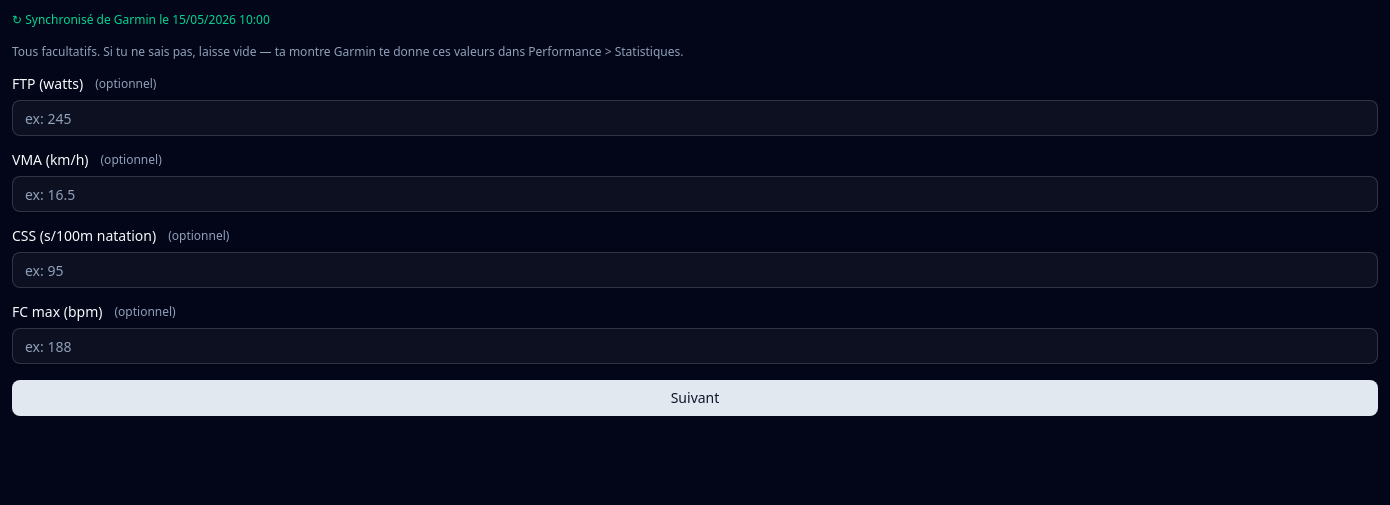
it: StepPerfForm › displays errors when server returns validation errors
Click the button "Suivant".
click(695, 398)  # box [12,380,1378,416]
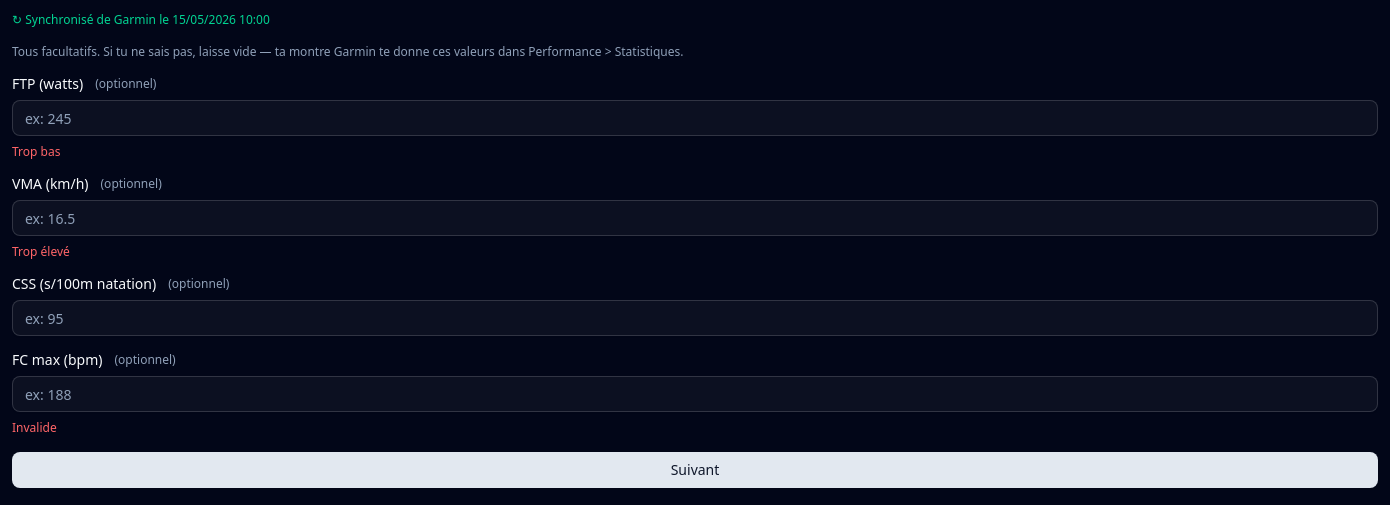
Now the text "Trop bas" is shown, box [12,143,60,160]
Now the text "Trop élevé" is shown, box [12,243,70,260]
Now the text "Invalide" is shown, box [12,419,57,436]
